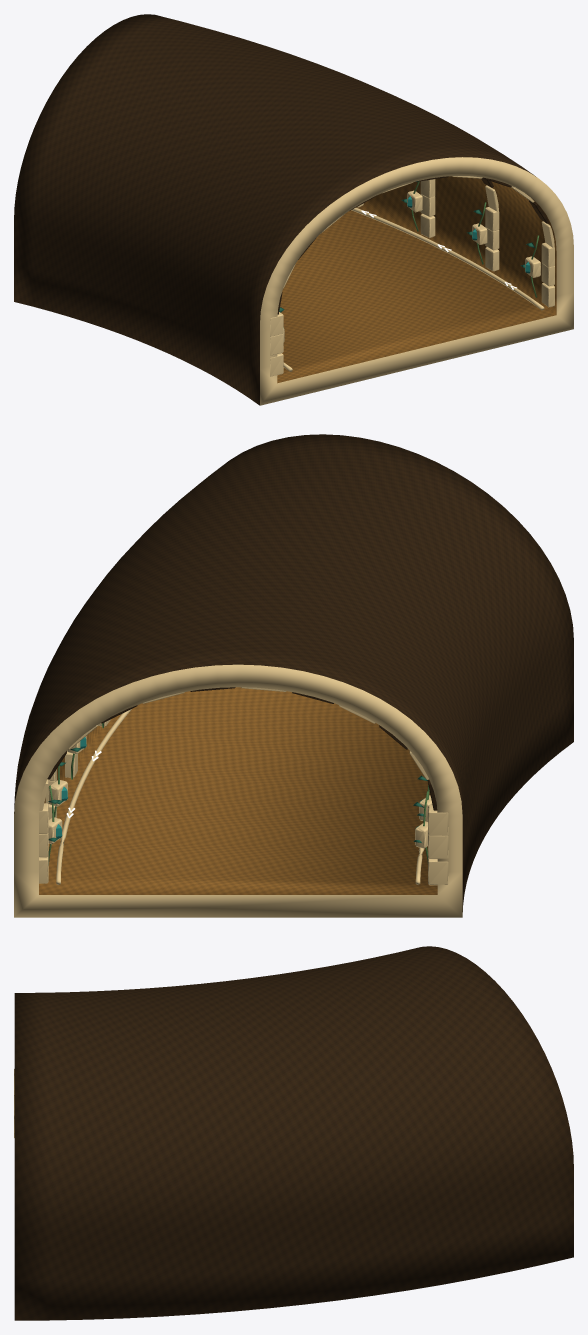
The model's file is curve_left_30_lod1.glb.
3 views of the same model, one above another, from view 1: azimuth 30°, elevation 25°; view 2: azimuth 150°, elevation 25°; view 3: azimuth 270°, elevation 25° (orthographic). The views are drawn at different scales.
Visible parts, largest first — view 1: TunnelGeometry.001; view 2: TunnelGeometry.001; view 3: TunnelGeometry.001.
Boxes of the visible parts, left/top/right/bottom form: TunnelGeometry.001: left=14, top=14, right=573, bottom=405; TunnelGeometry.001: left=14, top=434, right=573, bottom=917; TunnelGeometry.001: left=14, top=946, right=573, bottom=1320.
Bounding box in the file's own units: 19.1 × 9.52 × 21.85.
Materials: 7 (2 with a texture image).
